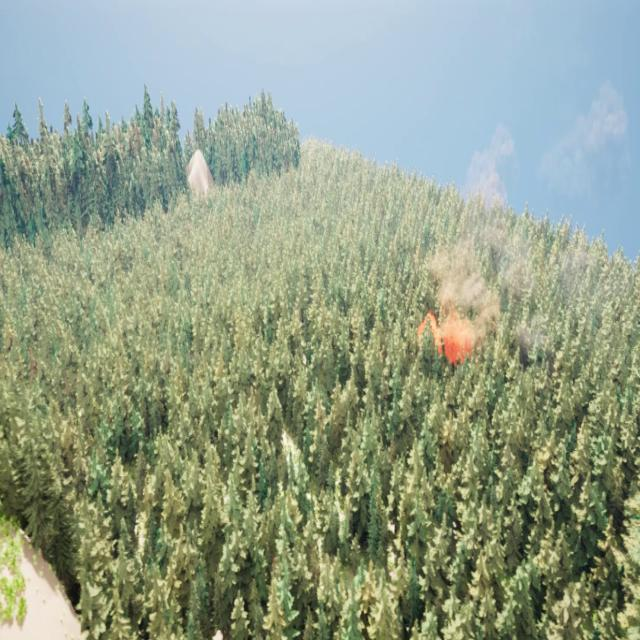fire: (417, 303, 473, 366)
smoke: (436, 85, 631, 337)
